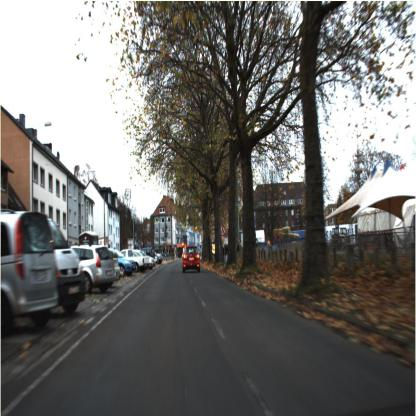danger: (218, 220, 230, 240)
